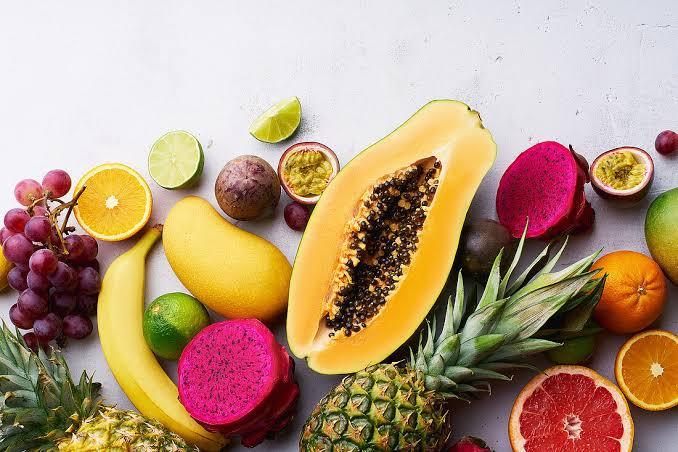xoai: (162, 192, 291, 319)
